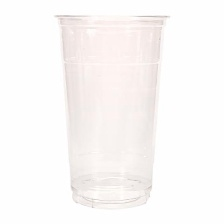glass: (49, 7, 180, 213)
